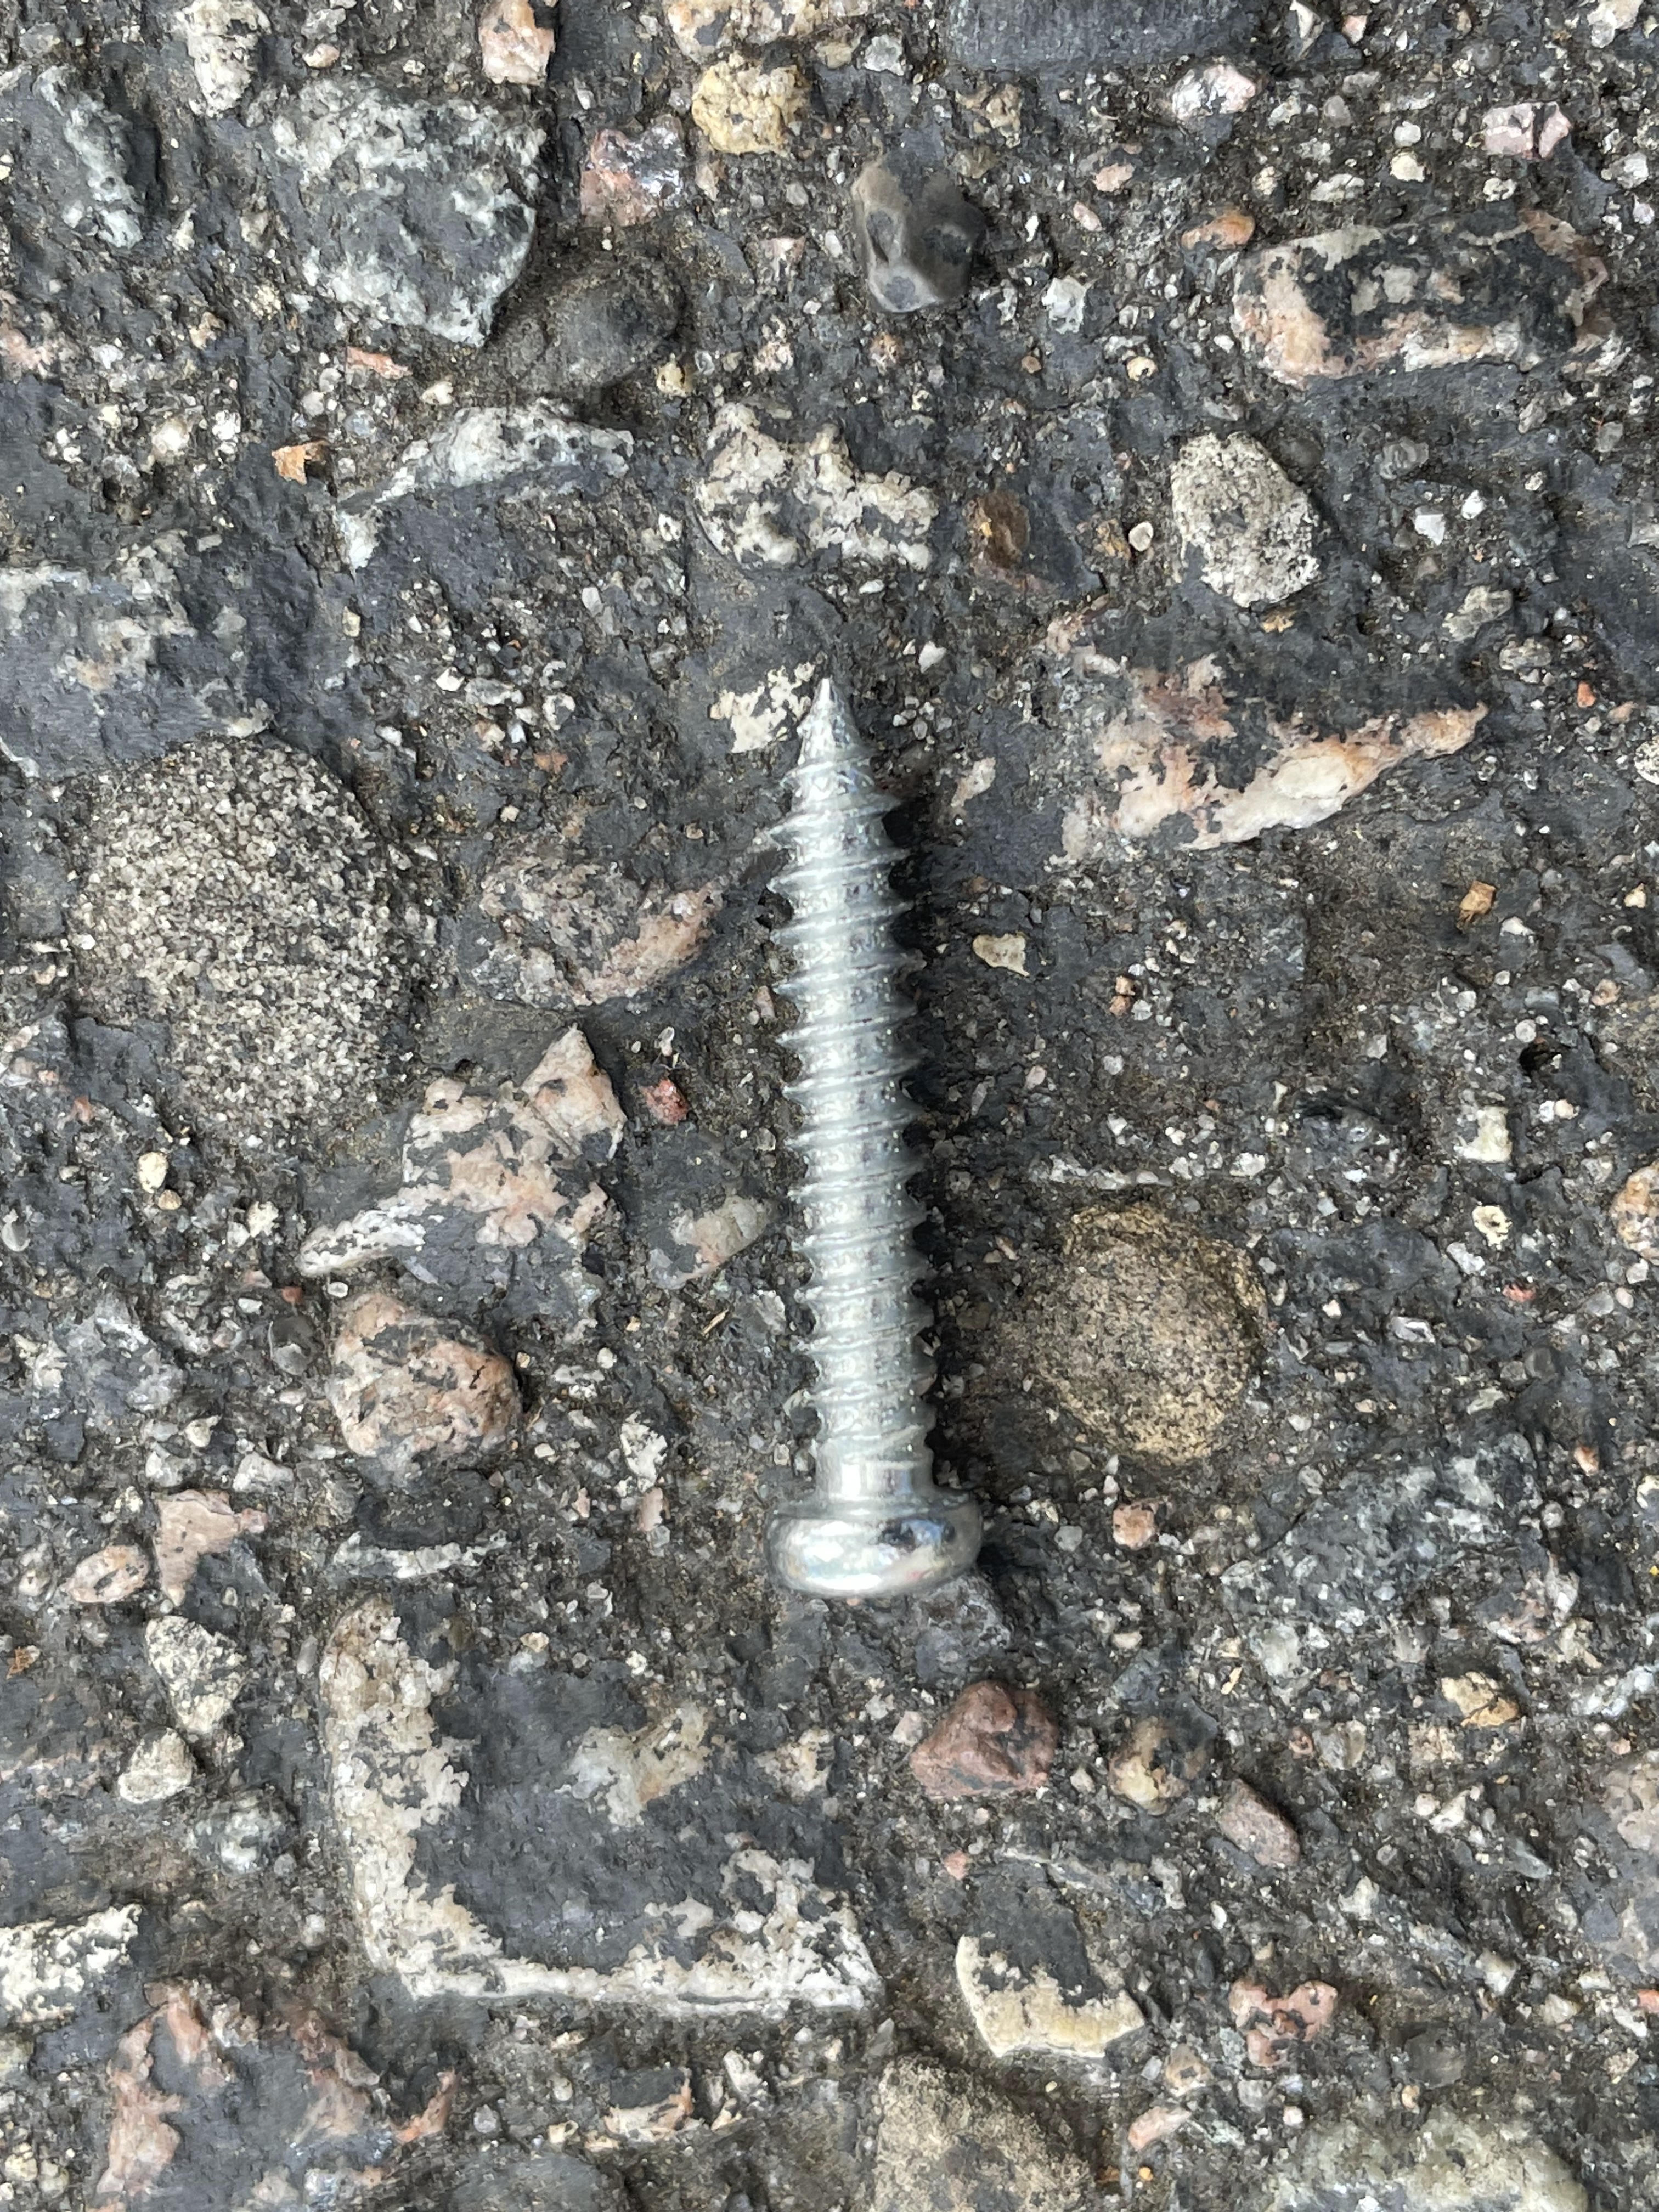screw: (769, 678, 985, 1599)
